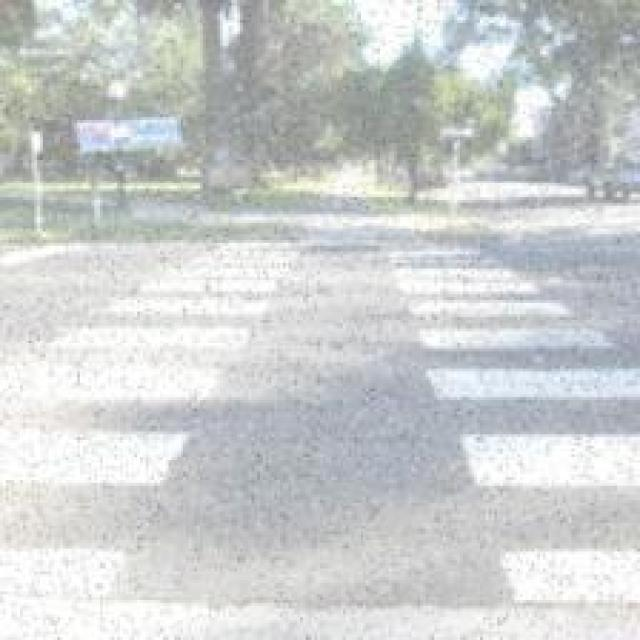crosswalk: (0, 237, 640, 609)
